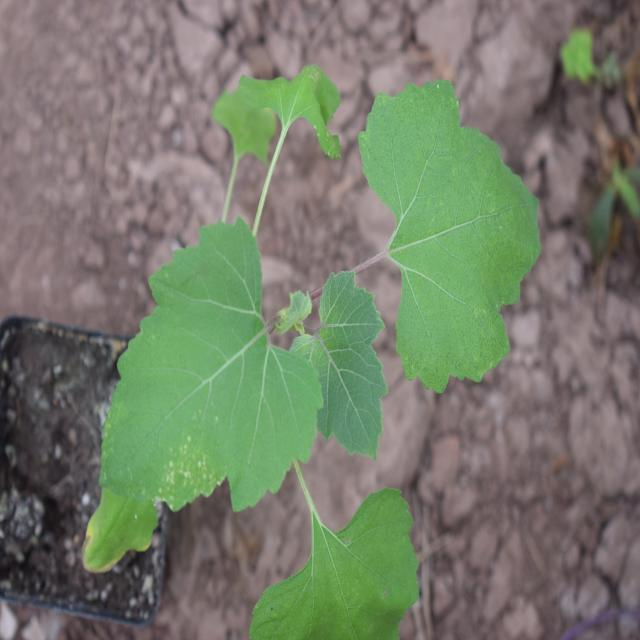cocklebur: (104, 50, 537, 614)
